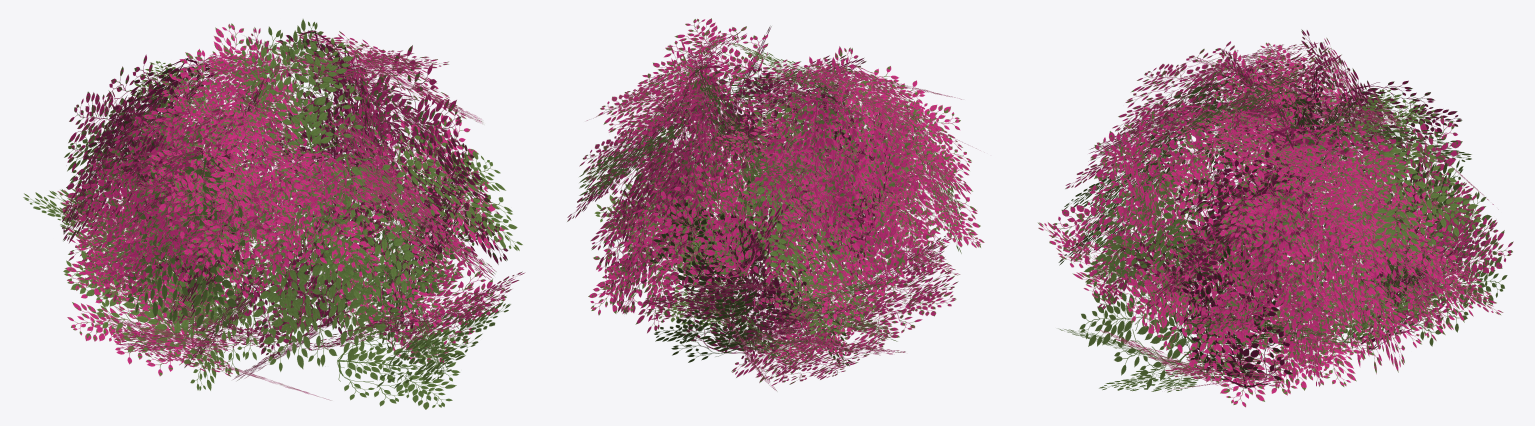
File: bougainvillea.glb
The picture shows the model from 3 angles, left to right: view 1: azimuth 30°, elevation 25°; view 2: azimuth 150°, elevation 25°; view 3: azimuth 270°, elevation 25°; orthographic projection. The views are drawn at different scales.
Parts seen in each view (by area): view 1: leaves_w; view 2: leaves_w; view 3: leaves_w.
Part boxes in pixels (x1,y1,x2,y2): leaves_w: (23, 19, 525, 409); leaves_w: (567, 18, 984, 391); leaves_w: (1038, 29, 1513, 407).
Size of the model in its own units: 2.05 by 1.7 by 2.25.
2 materials, 2 textured.
